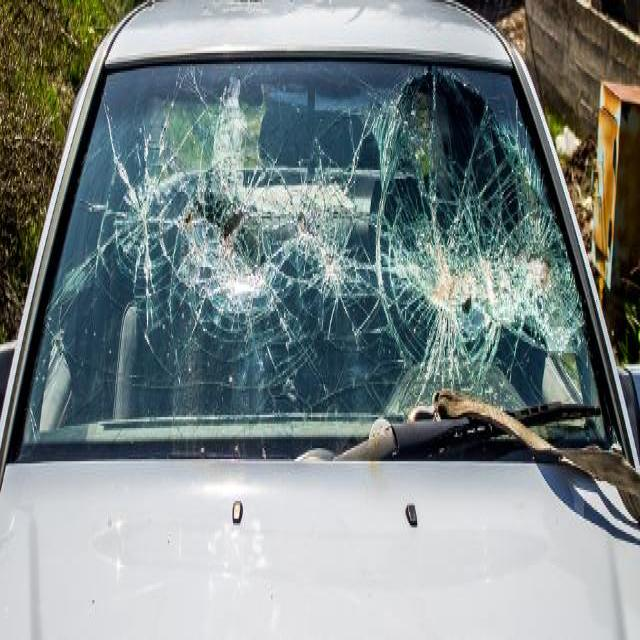Dent: (346, 2, 366, 22), (84, 198, 108, 210), (285, 386, 297, 402)
